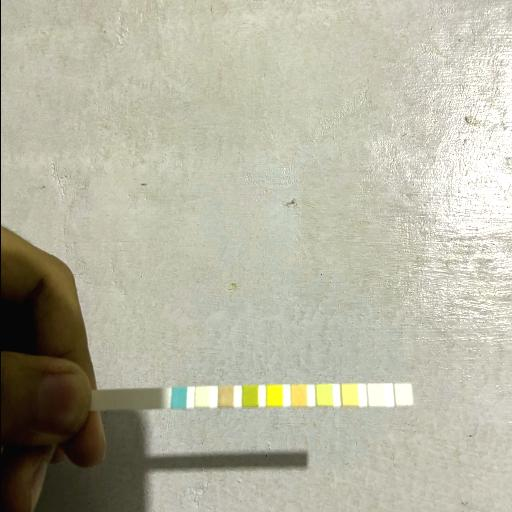Bilirubin: (195, 387, 209, 405)
Blood: (266, 386, 280, 406)
Glucose: (171, 388, 185, 407)
Ketone: (218, 388, 232, 406)
Leukocytes: (394, 384, 408, 404)
Nitrite: (368, 384, 382, 406)
Protein: (317, 385, 331, 405)
SpGravity: (242, 386, 256, 406)
Urobilinogen: (342, 385, 356, 405)
pH: (292, 385, 306, 405)
strip: (88, 383, 412, 411)
